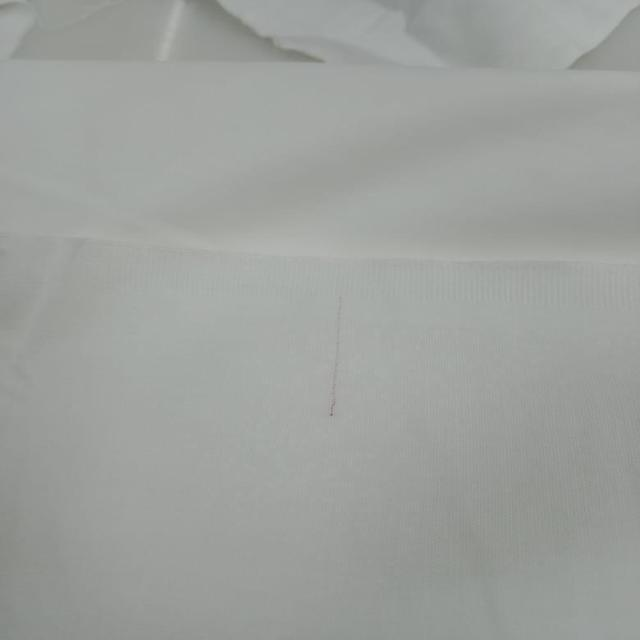contamination: (321, 288, 352, 422)
